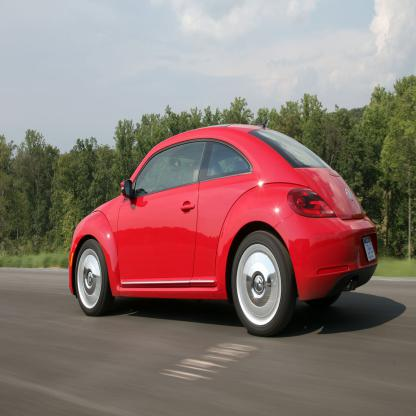car: (68, 127, 379, 338)
